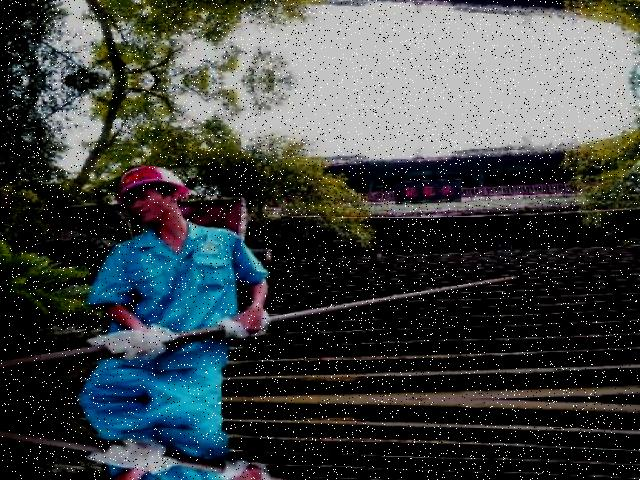Helmet: (105, 162, 192, 204)
